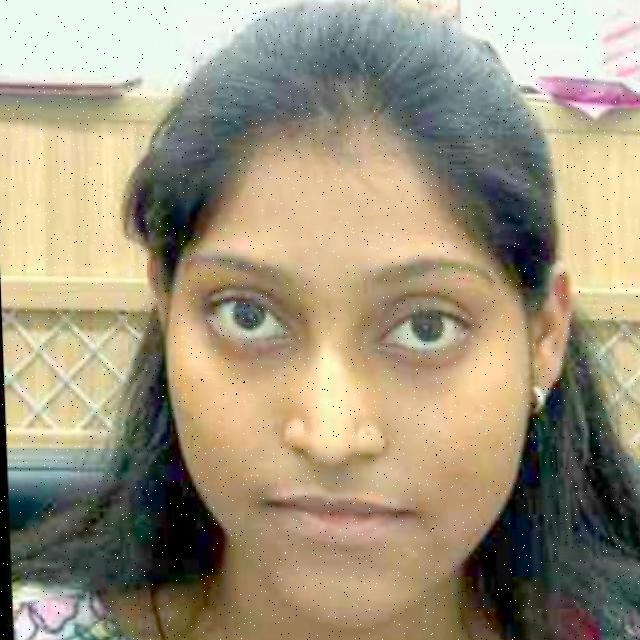puffy_eyes: (359, 344, 464, 390), (199, 342, 295, 378)
